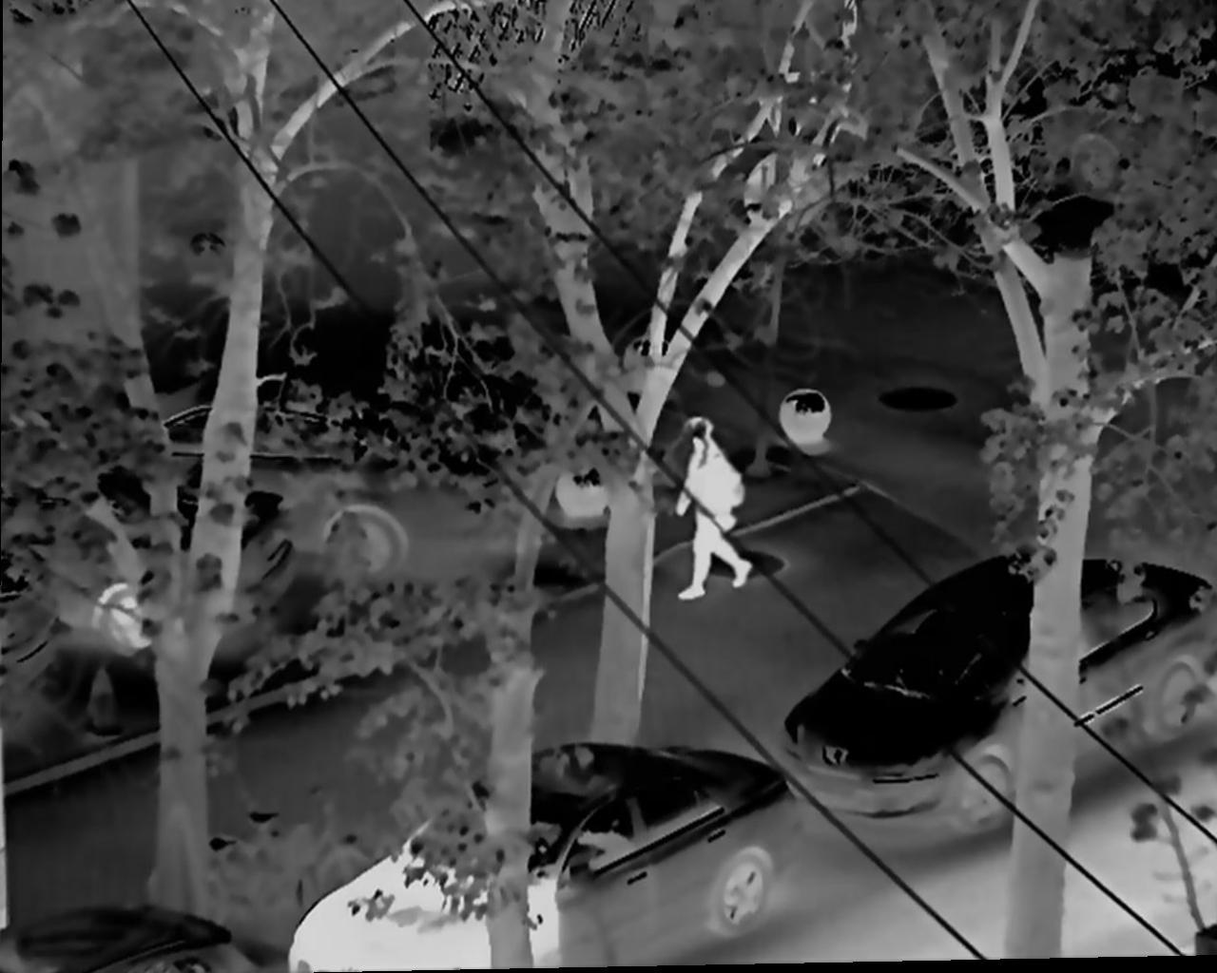person: (671, 417, 754, 610)
